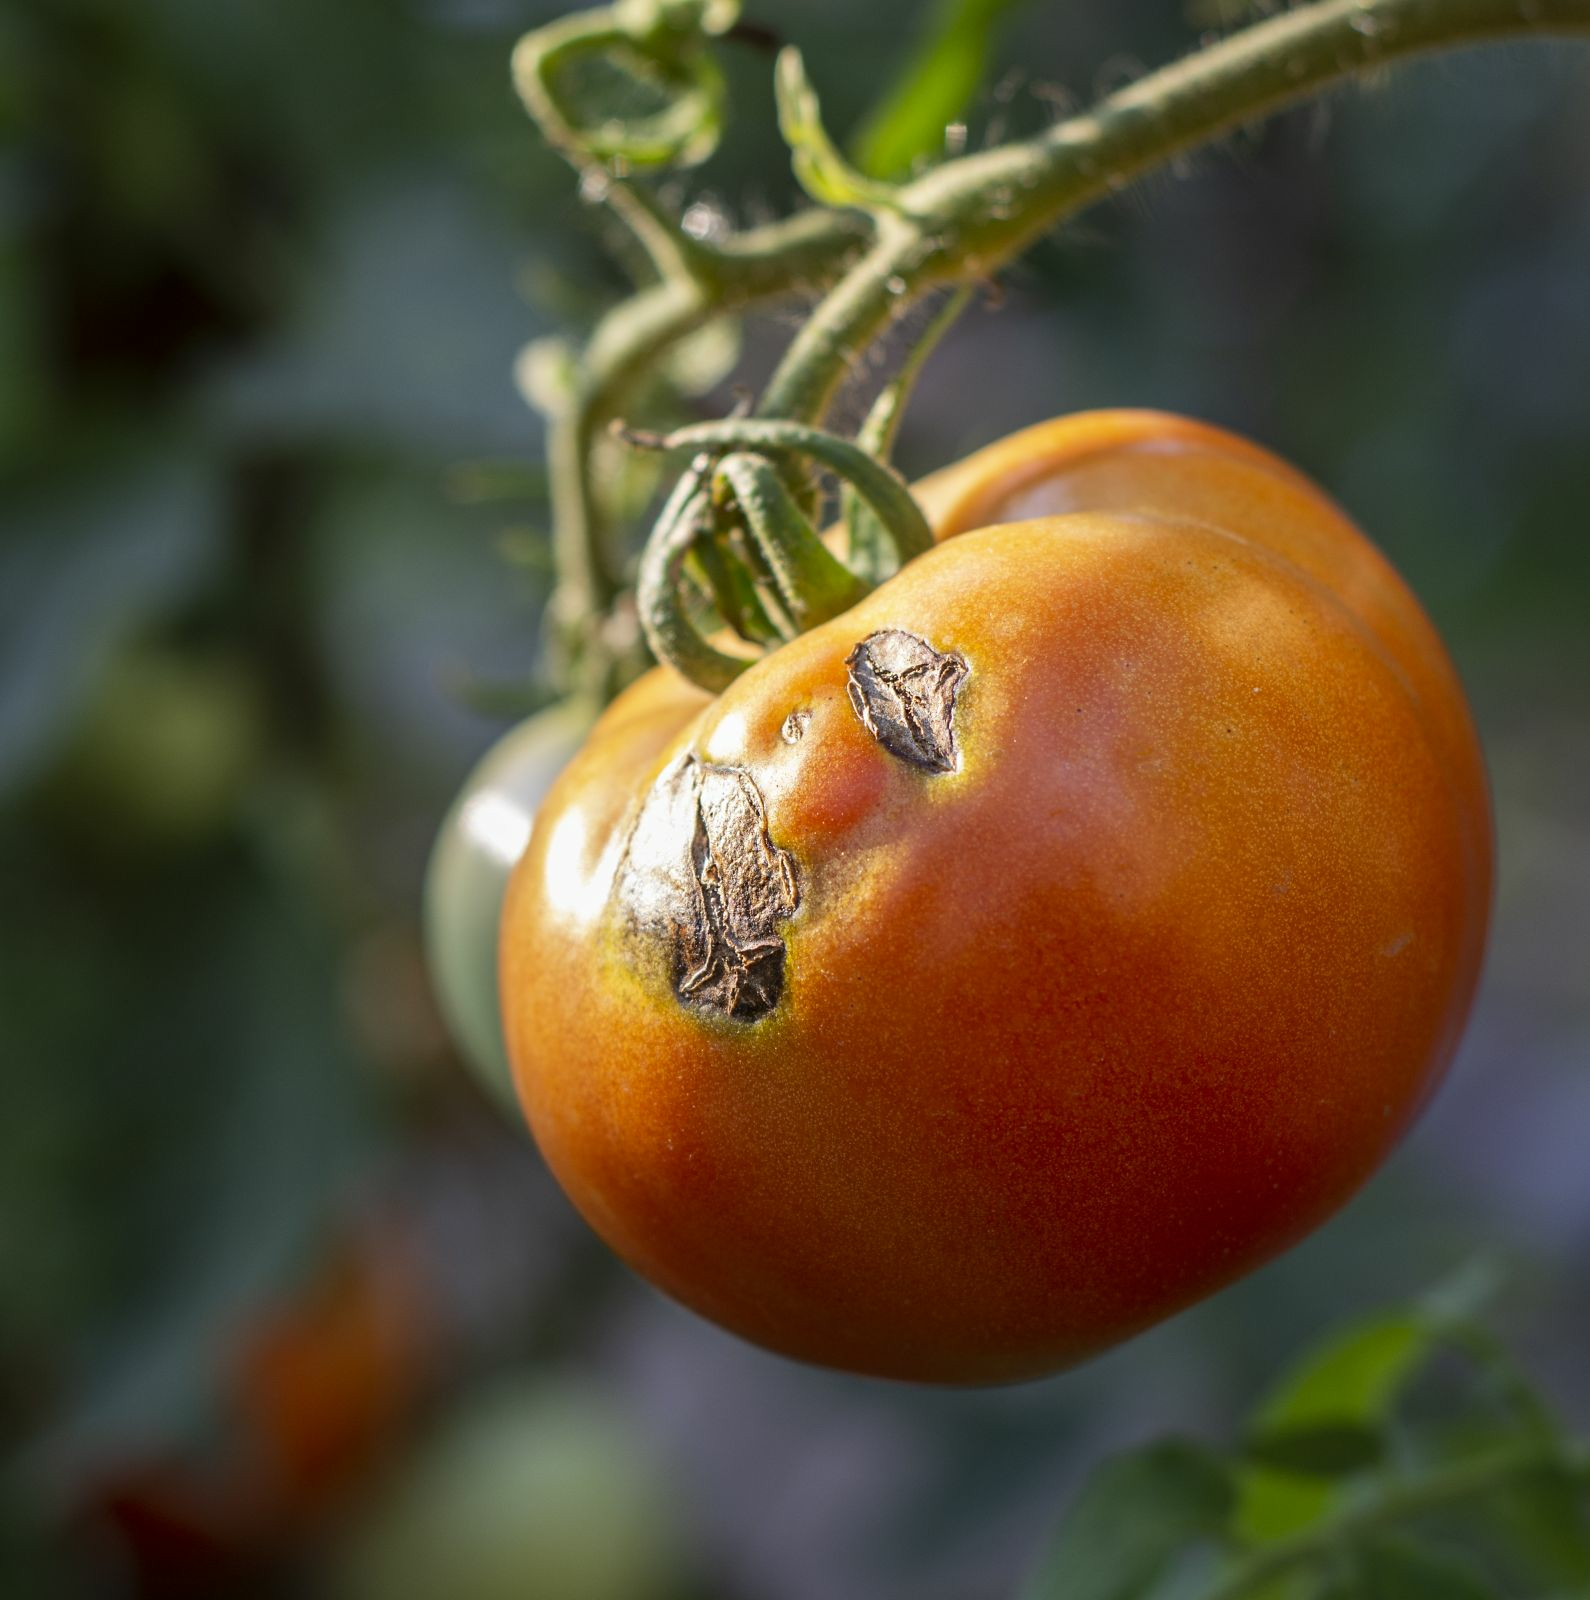rotten tomato: (386, 408, 1495, 1332)
